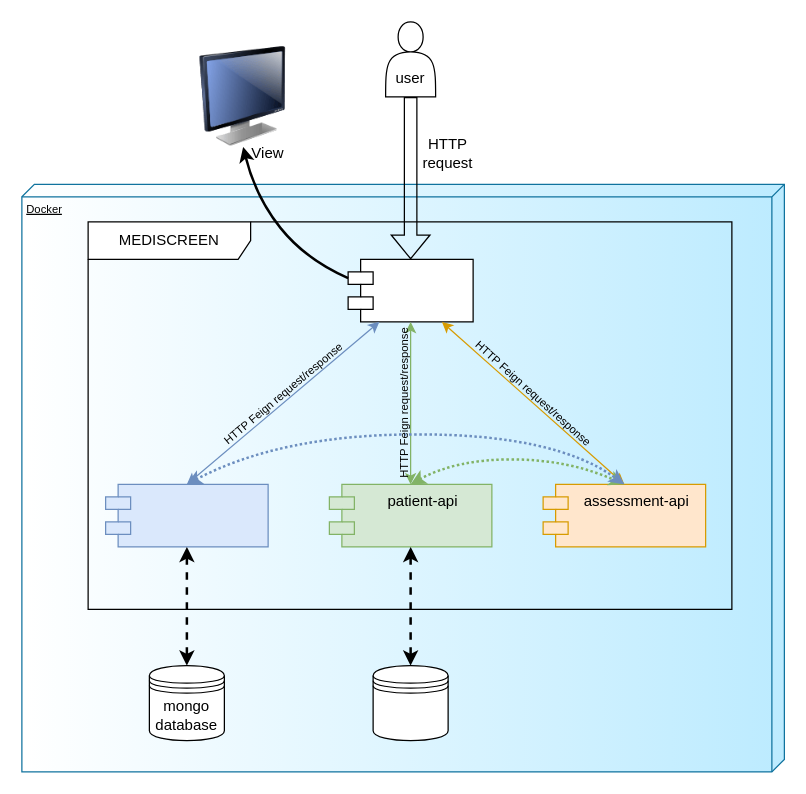
Some shapes in this 806 by 794 pixel diagram are drawn without their labels. The shapes that lost their labels are listed below. From the top down, each one's centre as x and y in pixels, then its label:
point 410,290: ui-api
point 186,515: history-api
point 410,702: mysql database
